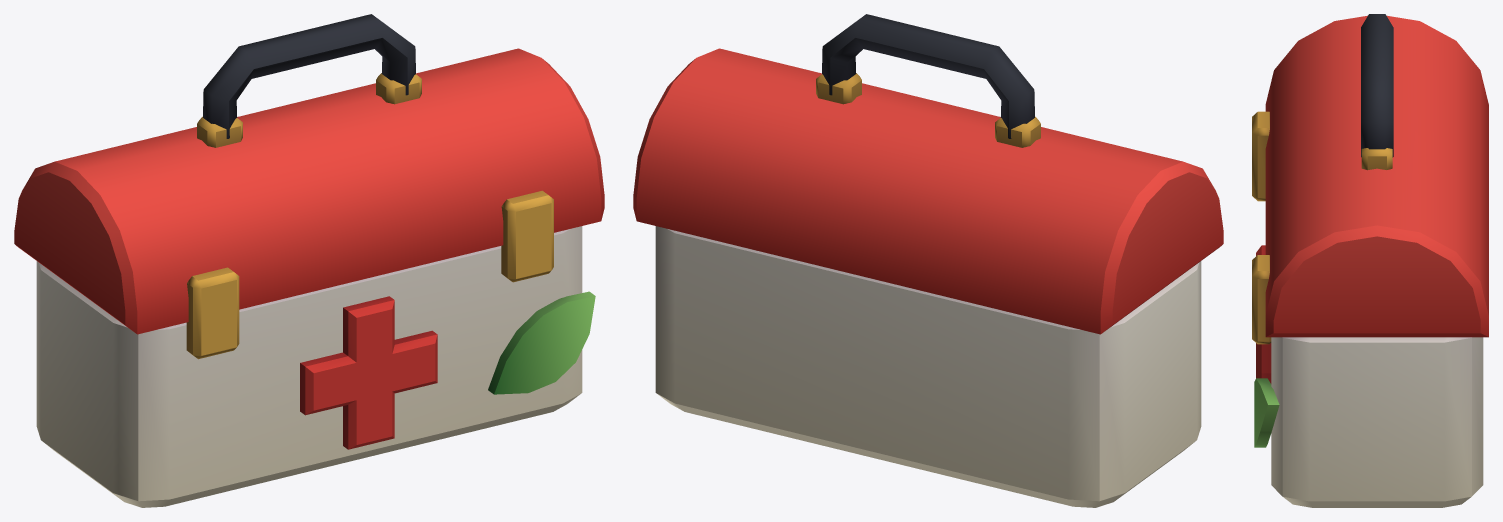
File: firstaid.glb
The picture shows the model from 3 angles, left to right: view 1: azimuth 30°, elevation 25°; view 2: azimuth 150°, elevation 25°; view 3: azimuth 270°, elevation 25°; orthographic projection. The views are drawn at different scales.
Parts seen in each view (by area): view 1: firstaid; view 2: firstaid; view 3: firstaid.
Boxes of the visible parts, x1,y1,x2,y2 form: firstaid: [14, 14, 604, 507]; firstaid: [633, 14, 1223, 507]; firstaid: [1252, 14, 1488, 507].
Size of the model in its own units: 0.268 by 0.2083 by 0.123.
